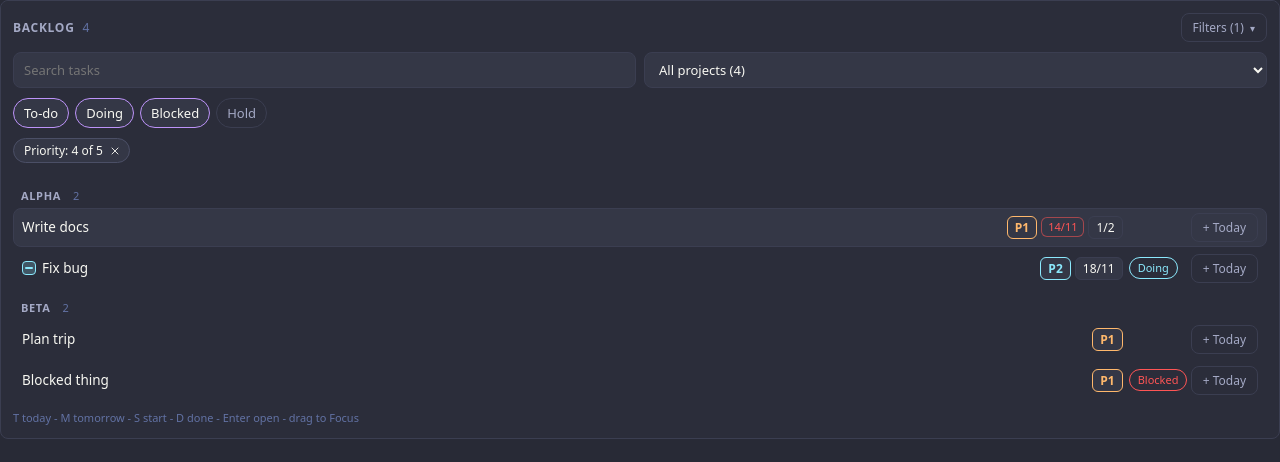
Test: BacklogPanel › filters by priority from the filters menu and reports it in a chip
The image size is (1280, 462).
Click the button "Filters (1) ▾" at (1224, 28), box left=1180, top=13, right=1267, bottom=42
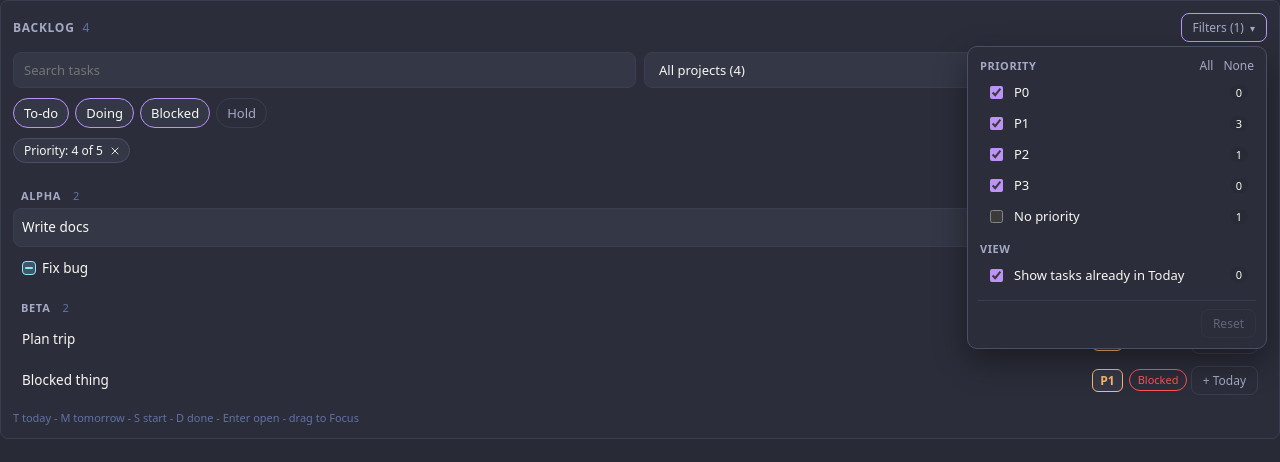
Expected: the checkbox labelled "No priority 1" is not checked
Click the checkbox labelled "No priority 1" at (996, 216), box left=990, top=210, right=1003, bottom=223
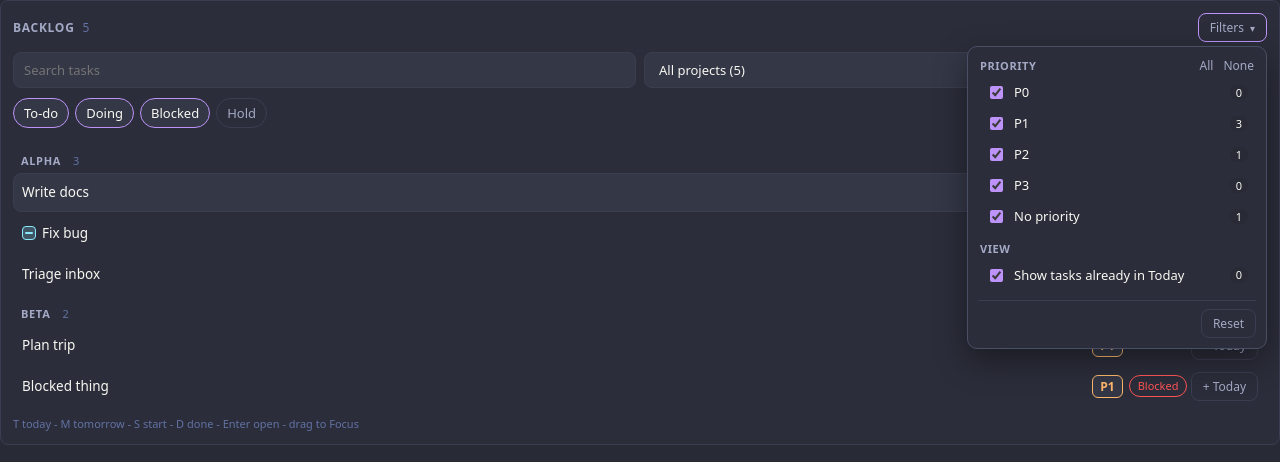
Expected: the text "Triage inbox" is shown, left=22, top=265, right=100, bottom=283
Click the button "None" at (1239, 66), box left=1223, top=57, right=1254, bottom=74
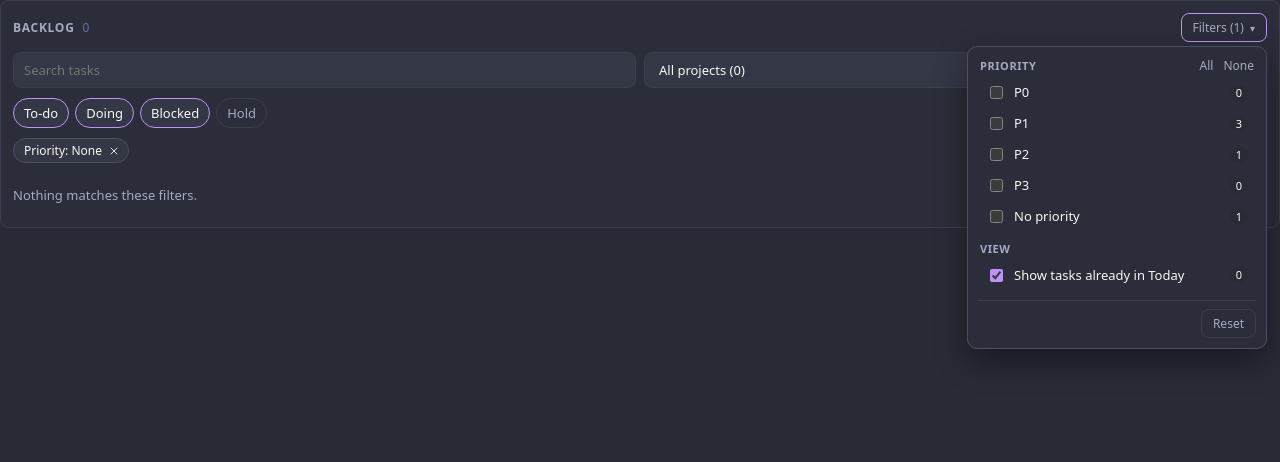
Expected: the text "Priority: None" is shown, left=24, top=142, right=102, bottom=159
Click the button "All" at (1206, 66), box left=1200, top=57, right=1213, bottom=74
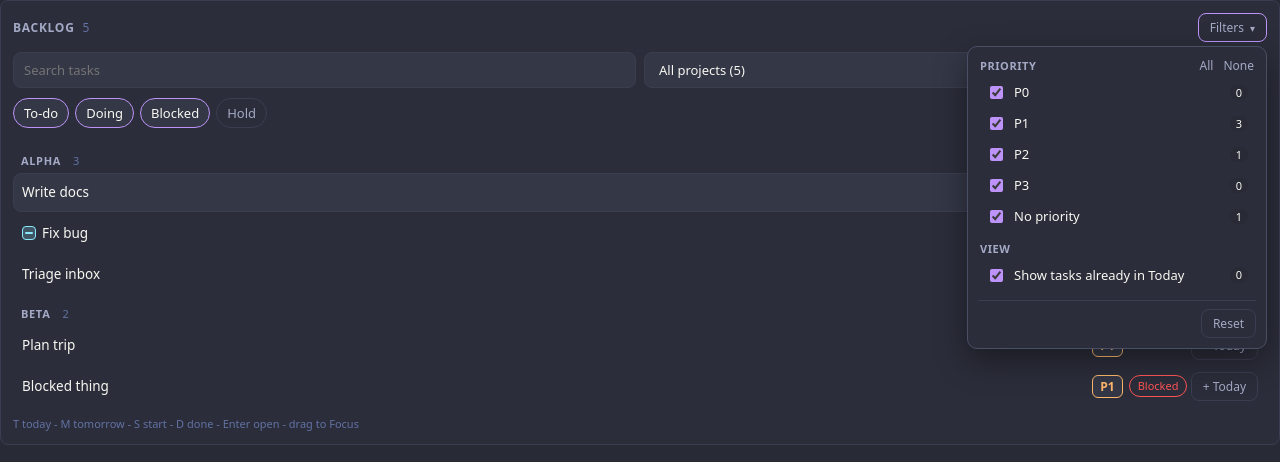
Click the checkbox labelled "P1 3" at (996, 124), box left=990, top=117, right=1003, bottom=130
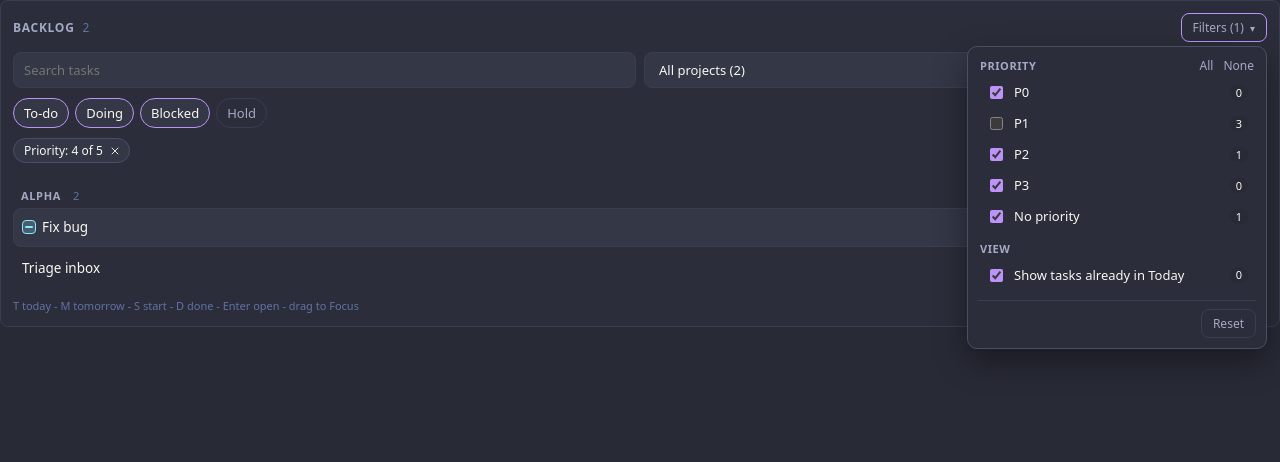
Expected: the text "Write docs" is gone
Expected: the text "Priority: 4 of 5" is shown, left=24, top=142, right=103, bottom=159
